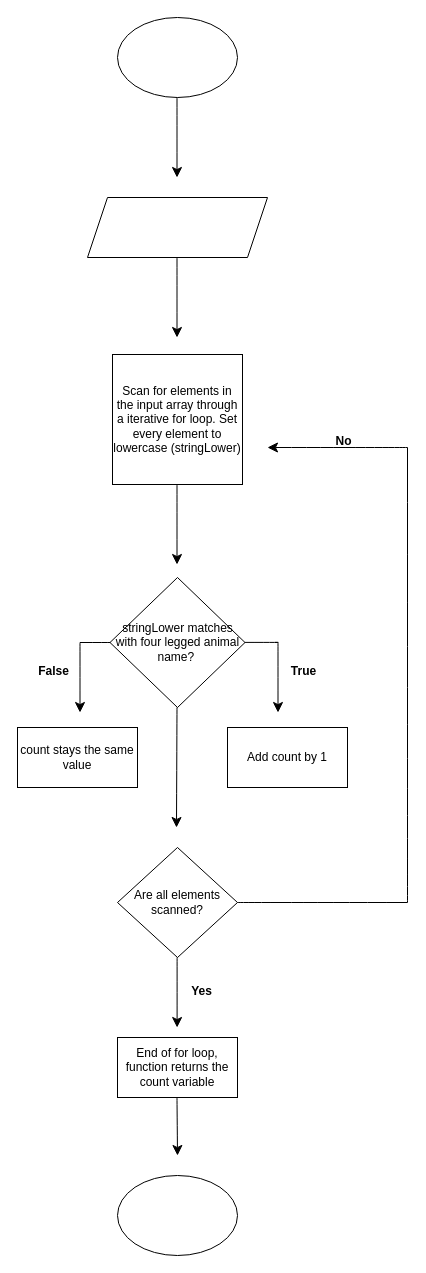
The diagram is 426 pixels wide and 1273 high, and some of its shapes have lost their labels. Here are the shapes that lost their labels. From the top down, the box of each, then its label:
(116, 16, 238, 98): Start
(86, 196, 268, 258): input an array of animals
(116, 1174, 238, 1256): Stop
